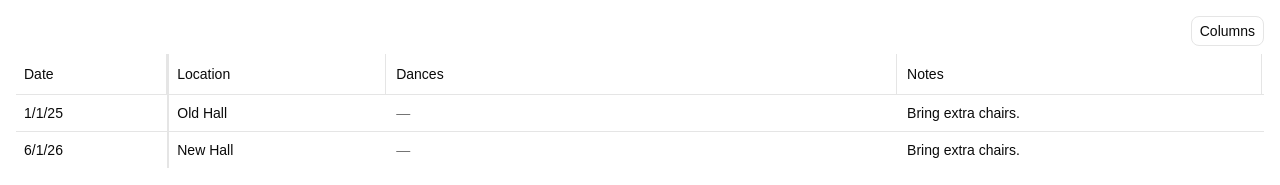
Test: ProgramsPage › sorting › sorts the Date column descending on the first click - most recent first, not oldest first
What coordinates should you click on to do the following:
click the button "Date"
I would click on:
 (93, 74)
Its box is top-left (24, 64), bottom-right (161, 84).
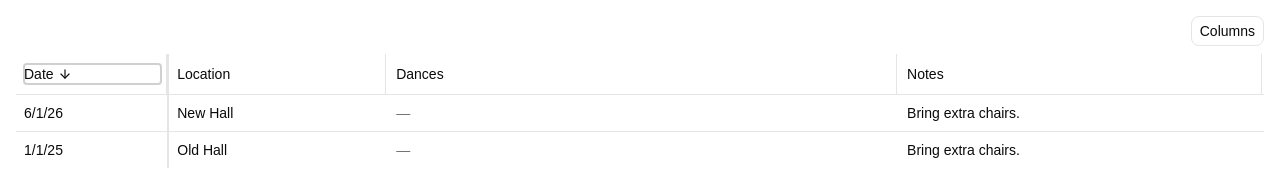
expect the icon with class "lucide-arrow-down" is shown: met, box top-left (58, 67), bottom-right (72, 81)
